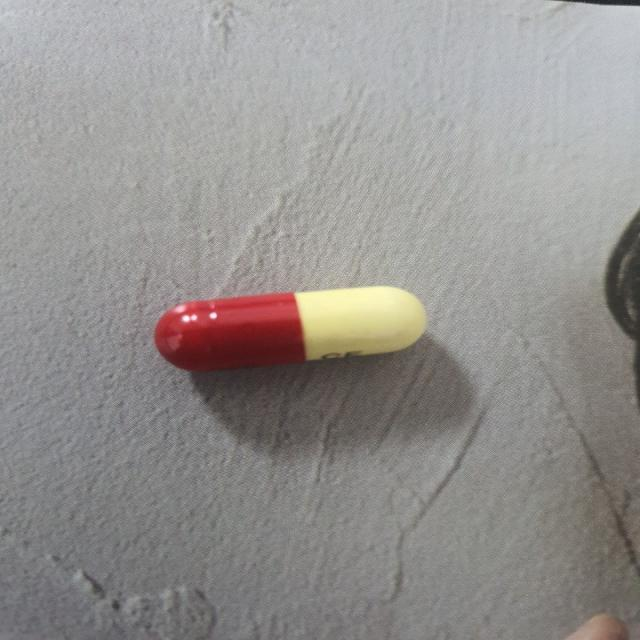pill: (143, 279, 455, 379)
